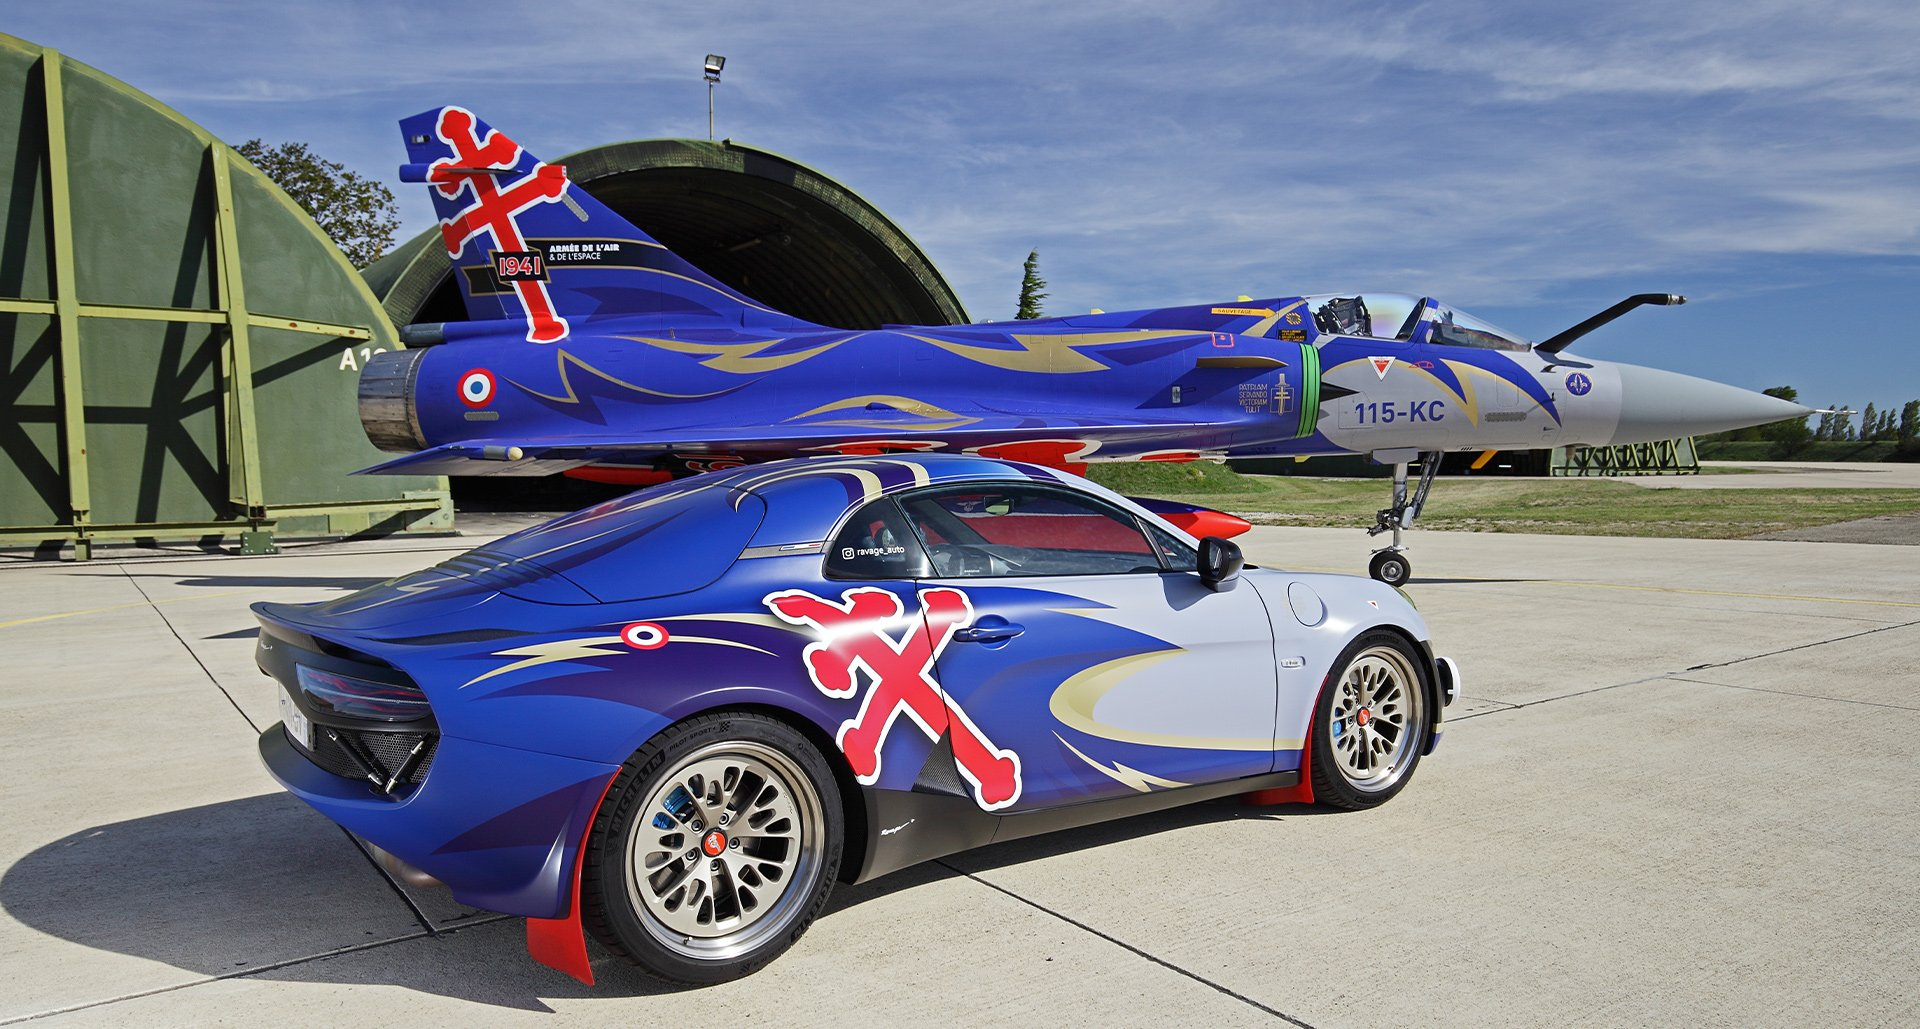Mirage2000: (345, 104, 1859, 588)
